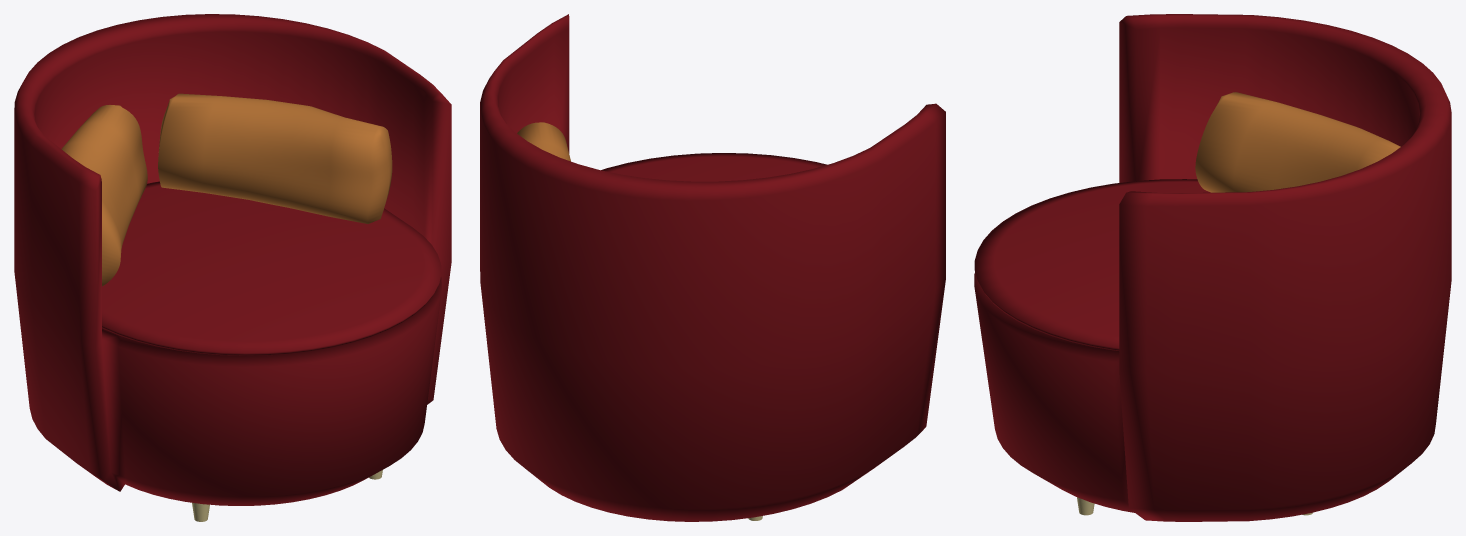
File: fortui.fbx
The picture shows the model from 3 angles, left to right: view 1: azimuth 30°, elevation 25°; view 2: azimuth 150°, elevation 25°; view 3: azimuth 270°, elevation 25°; orthographic projection. The views are drawn at different scales.
Parts seen in each view (by area): view 1: SOFA, pillow.001, pillow; view 2: SOFA, pillow.001; view 3: SOFA, pillow.
Boxes of the visible parts, bbox=[...] form: SOFA: bbox=[14, 14, 451, 521]; pillow.001: bbox=[158, 93, 392, 223]; pillow: bbox=[61, 105, 147, 286]; SOFA: bbox=[480, 14, 945, 521]; pillow.001: bbox=[517, 122, 570, 161]; SOFA: bbox=[974, 14, 1451, 521]; pillow: bbox=[1195, 92, 1400, 192].
Bounding box in the file's own units: 215 × 196 × 233.
